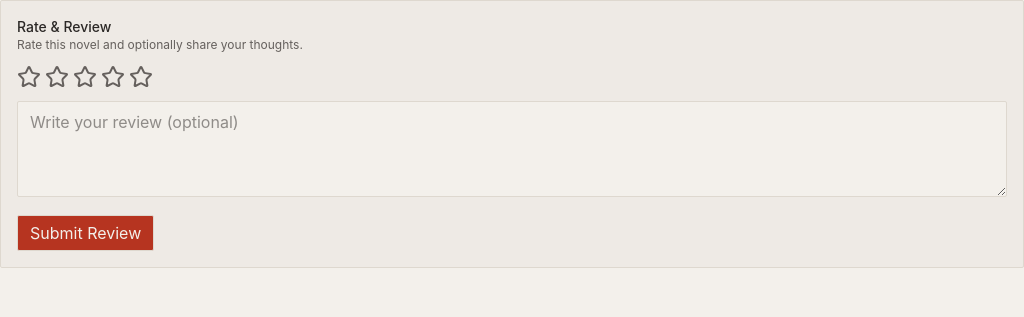
Test case: public engagement UI › blocks invalid review ratings client-side
Click the button "Submit Review".
click(86, 233)  # box [17,215,154,251]
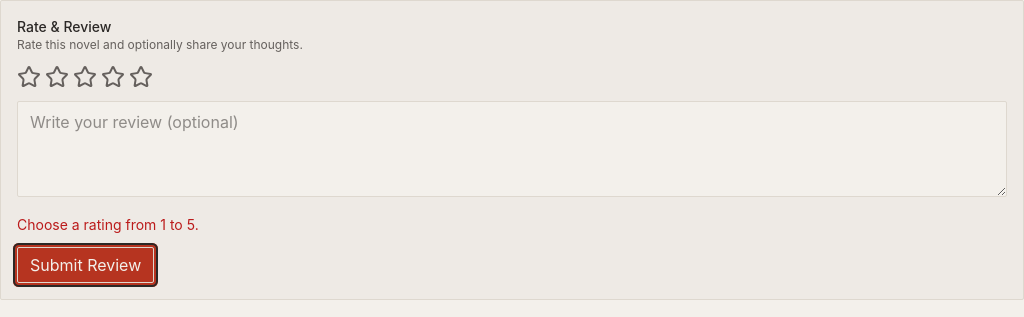
Expected: the text "Choose a rating from 1 to 5." is shown, [17,216,199,233]
